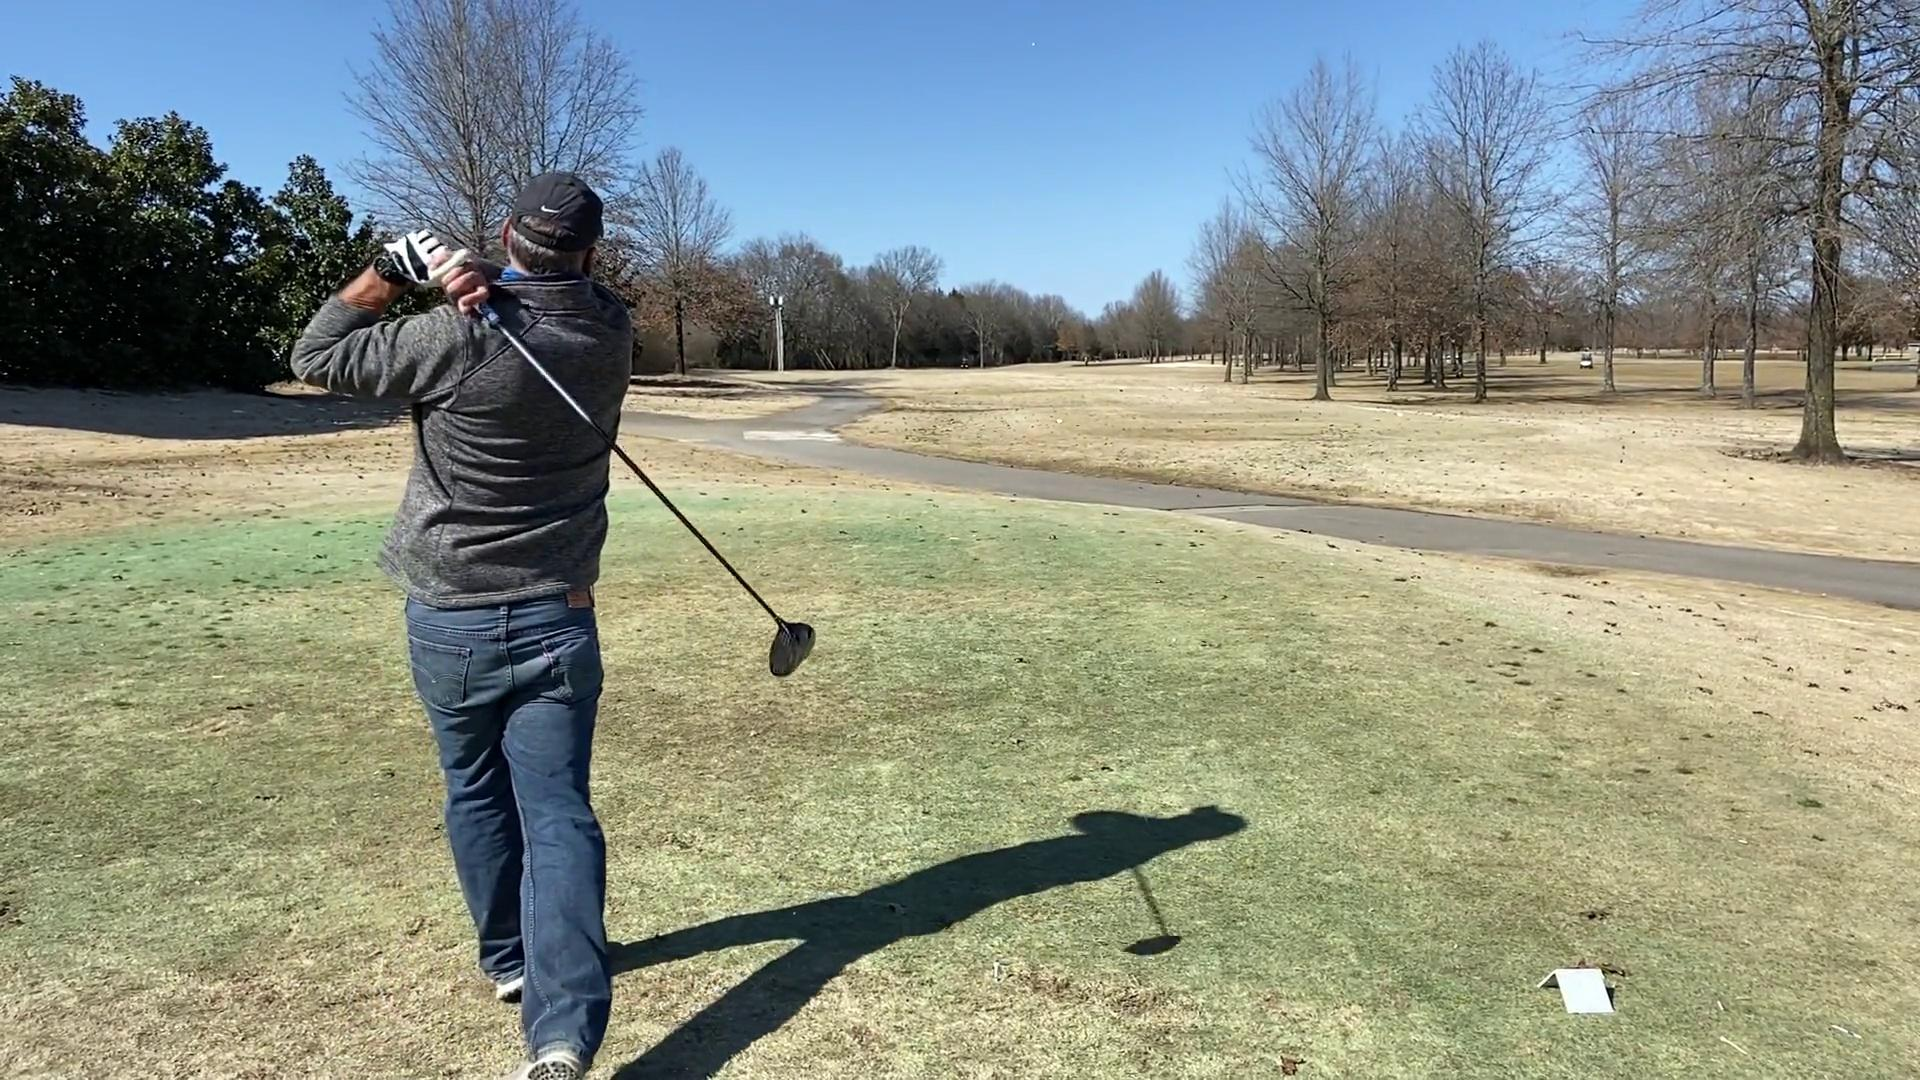ClubHead: (762, 612, 823, 684)
